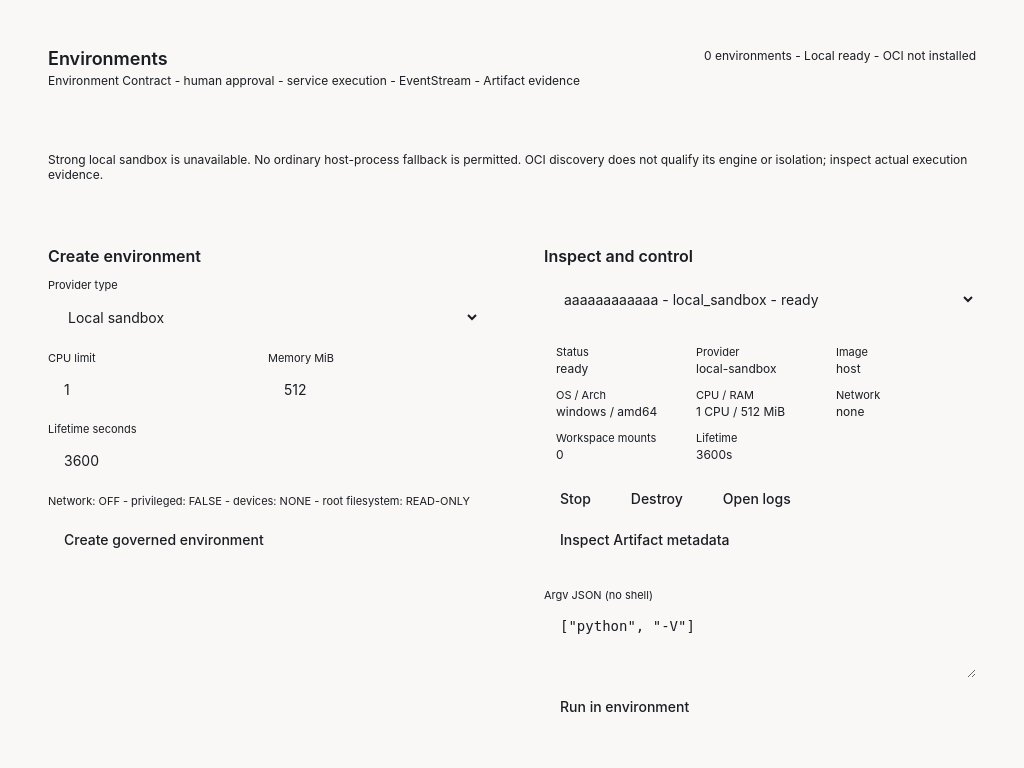
Test case: environment inspector › runs argv without a shell and exposes Artifact evidence
This screenshot has width=1024, height=768.
Step 1. Click the button "Run in environment" → (625, 706), box [544,690,705,723]
(page scrolled)
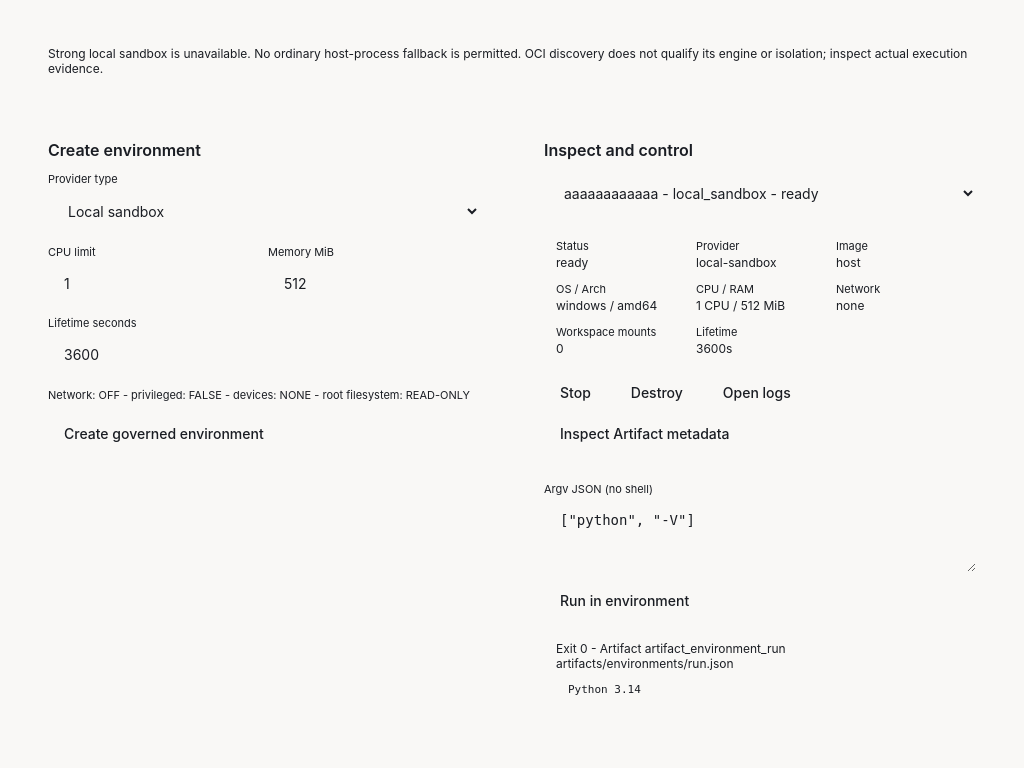
Result: the text "artifact_environment_run" is shown at [645,641,786,656]
Result: the text "Python 3.14" is shown at [568,683,641,696]
